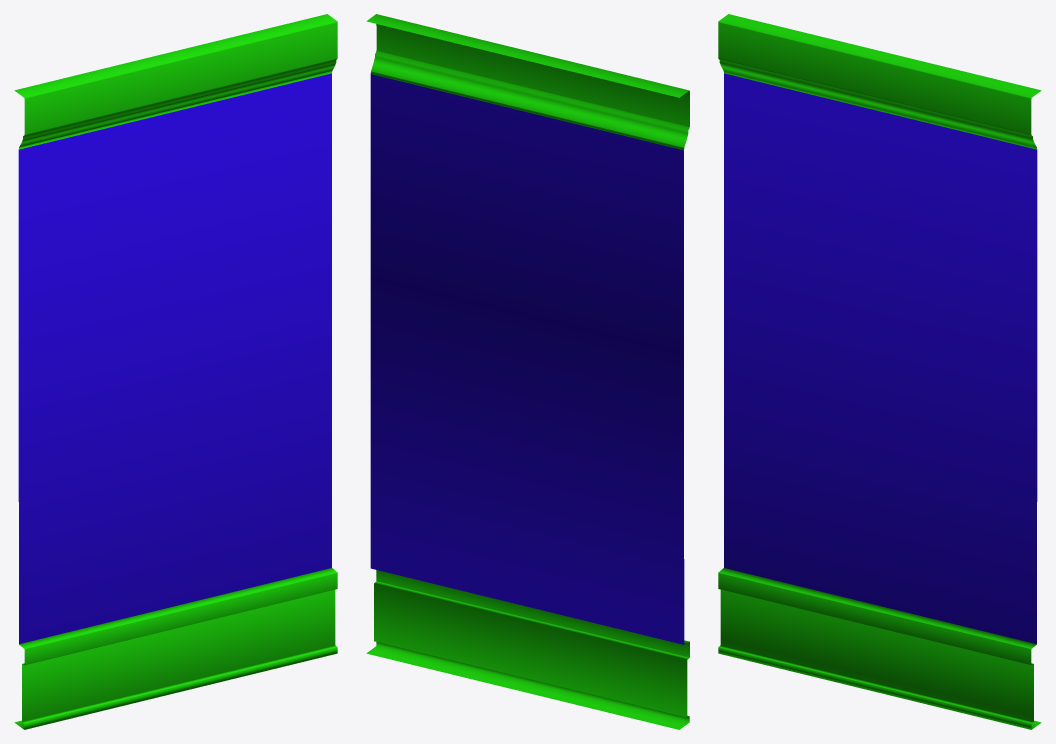
File: C_ShortWall.fbx
The picture shows the model from 3 angles, left to right: view 1: azimuth 30°, elevation 25°; view 2: azimuth 150°, elevation 25°; view 3: azimuth 330°, elevation 25°; orthographic projection.
Parts seen in each view (by area): view 1: C_ShortWall; view 2: C_ShortWall; view 3: C_ShortWall.
Boxes of the visible parts, x1,y1,x2,y2 form: C_ShortWall: [14, 14, 337, 729]; C_ShortWall: [366, 14, 689, 729]; C_ShortWall: [718, 14, 1041, 729].
Bounding box in the file's own units: 163 × 313 × 9.32.
